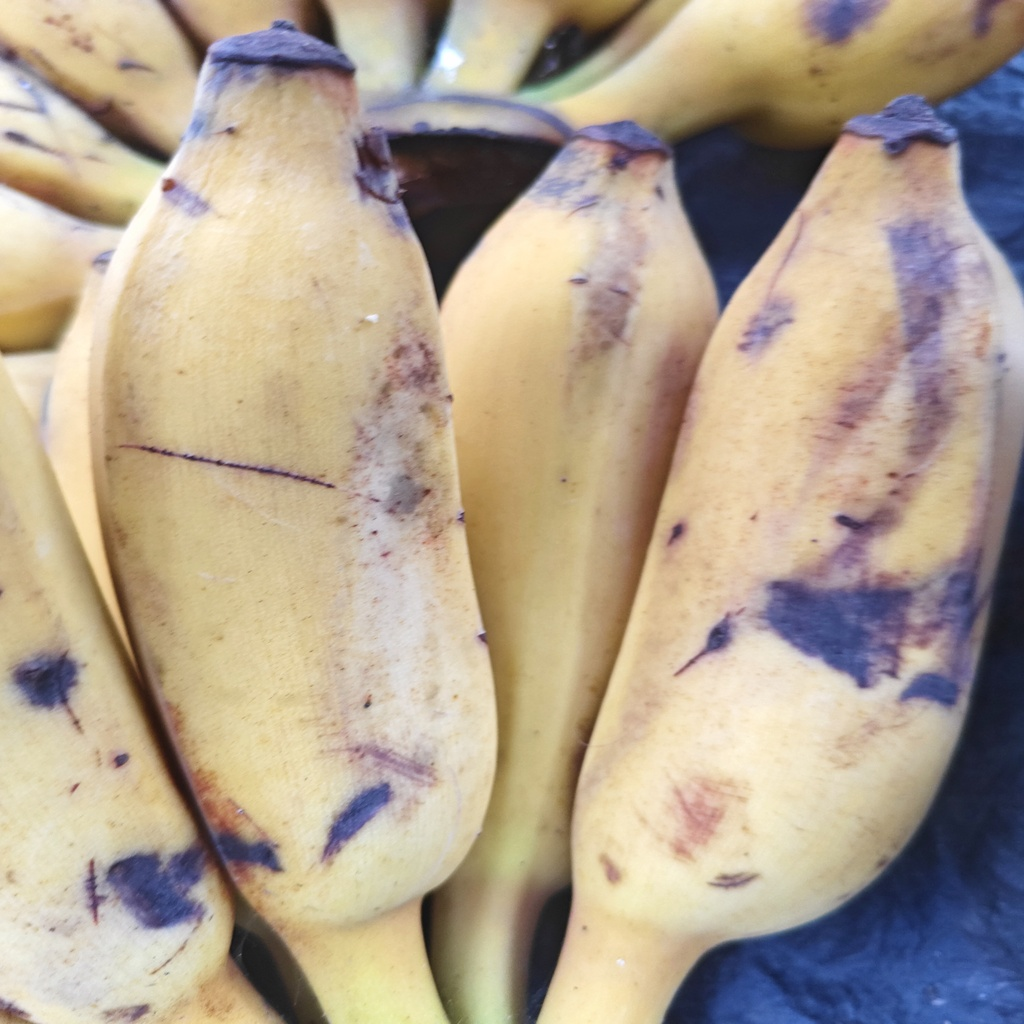healthy: (572, 124, 1017, 953), (87, 30, 496, 927)
